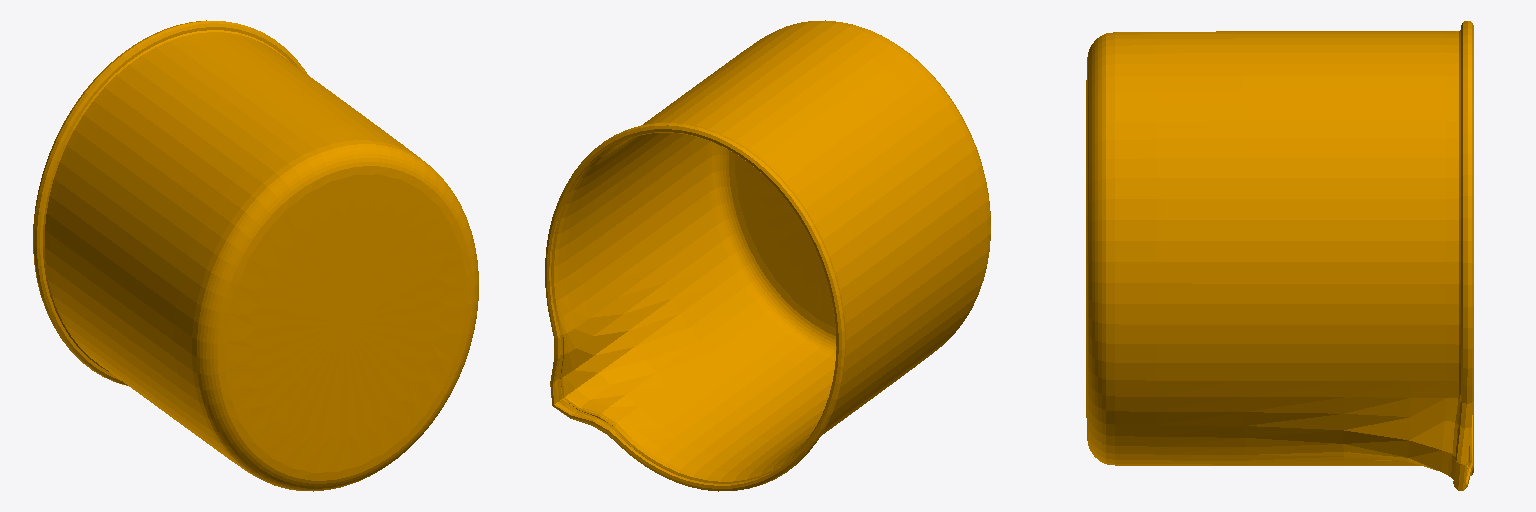
The robot description file, URDF, robot "beaker_mesh":
<robot name="beaker_mesh">
  <link name="baseLink">
    <inertial>
      <origin xyz="0 0 0" rpy="0 0 0"/>
      <mass value="1.0"/>
      <inertia ixx="0.1" ixy="0" ixz="0" iyy="0.1" iyz="0" izz="0.1"/>
    </inertial>
    <visual>
      <origin xyz="0 0 0" rpy="0 0 0"/>
      <geometry>
        <mesh filename="Beaker_Files/Beaker.obj" scale="0.065 0.065 0.075"/>
      </geometry>
    </visual>
    <collision>
      <origin xyz="0 0 0" rpy="0 0 0"/>
      <geometry>
        <mesh filename="Beaker_Files/Beaker.obj" scale="0.065 0.065 0.075"/>
      </geometry>
    </collision>
  </link>
</robot>

--- Facts derived from the render (not from the file) ---
Views: 3 orthographic renders of the robot side by side, from view 1: azimuth 30°, elevation 25°; view 2: azimuth 150°, elevation 25°; view 3: azimuth 270°, elevation 25°.
Robot: beaker_mesh — 1 links, 0 joints (none); root link baseLink; default pose: every joint at zero.
Links seen in each view (by area): view 1: baseLink; view 2: baseLink; view 3: baseLink.
Boxes of the visible links, x1=… form: baseLink: x1=33, y1=20, x2=478, y2=491; baseLink: x1=545, y1=20, x2=990, y2=491; baseLink: x1=1086, y1=21, x2=1473, y2=490.
Size in the robot's own frame: 0.0678 by 0.0649 by 0.0782 metres.
1 mesh visuals loaded from 1 distinct referenced files (1 OBJ).